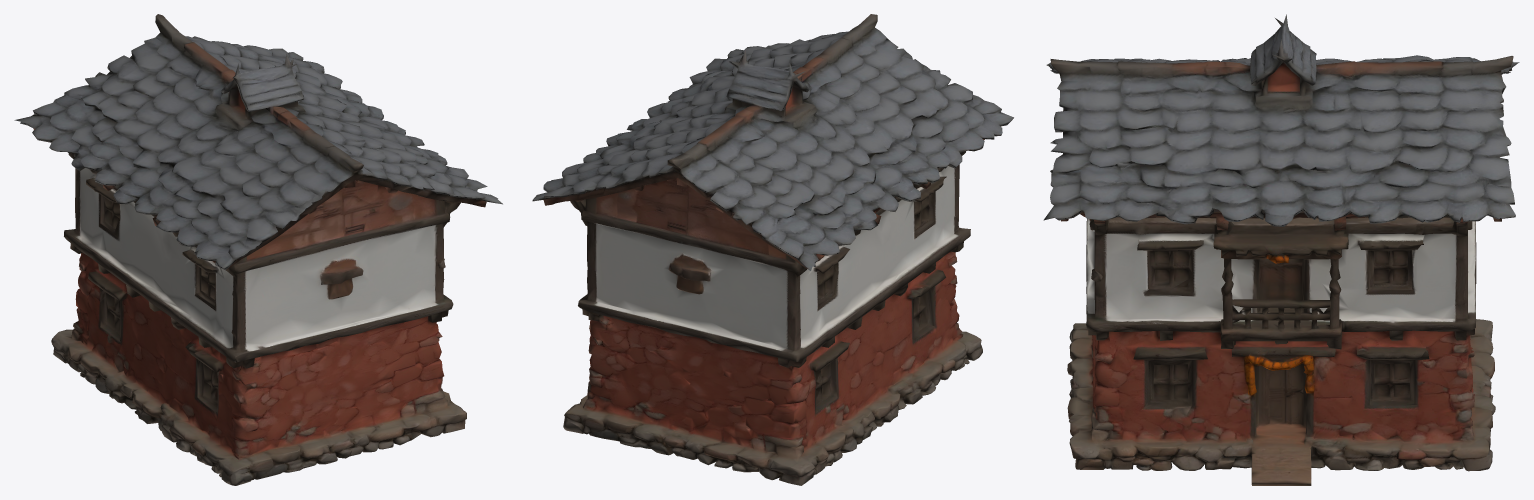
The model's file is hill_house.glb.
The picture shows the model from 3 angles, left to right: view 1: azimuth 30°, elevation 25°; view 2: azimuth 150°, elevation 25°; view 3: azimuth 270°, elevation 25°; orthographic projection. The views are drawn at different scales.
Visible parts, largest first — view 1: tripo_node_f05878d3-cdd1-4e0c-b1c2-e6b8c2a20ce8; view 2: tripo_node_f05878d3-cdd1-4e0c-b1c2-e6b8c2a20ce8; view 3: tripo_node_f05878d3-cdd1-4e0c-b1c2-e6b8c2a20ce8.
Part boxes in pixels (x1,y1,x2,y2): tripo_node_f05878d3-cdd1-4e0c-b1c2-e6b8c2a20ce8: (14, 14, 502, 485); tripo_node_f05878d3-cdd1-4e0c-b1c2-e6b8c2a20ce8: (532, 14, 1013, 485); tripo_node_f05878d3-cdd1-4e0c-b1c2-e6b8c2a20ce8: (1043, 14, 1519, 485).
Size of the model in its own units: 2.28 by 2.5 by 2.83.
1 material, 1 textured.
